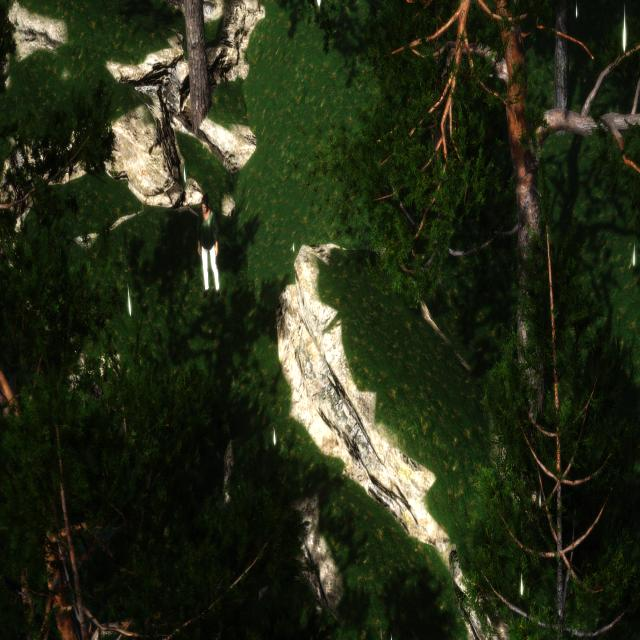Human: (192, 192, 221, 299)
